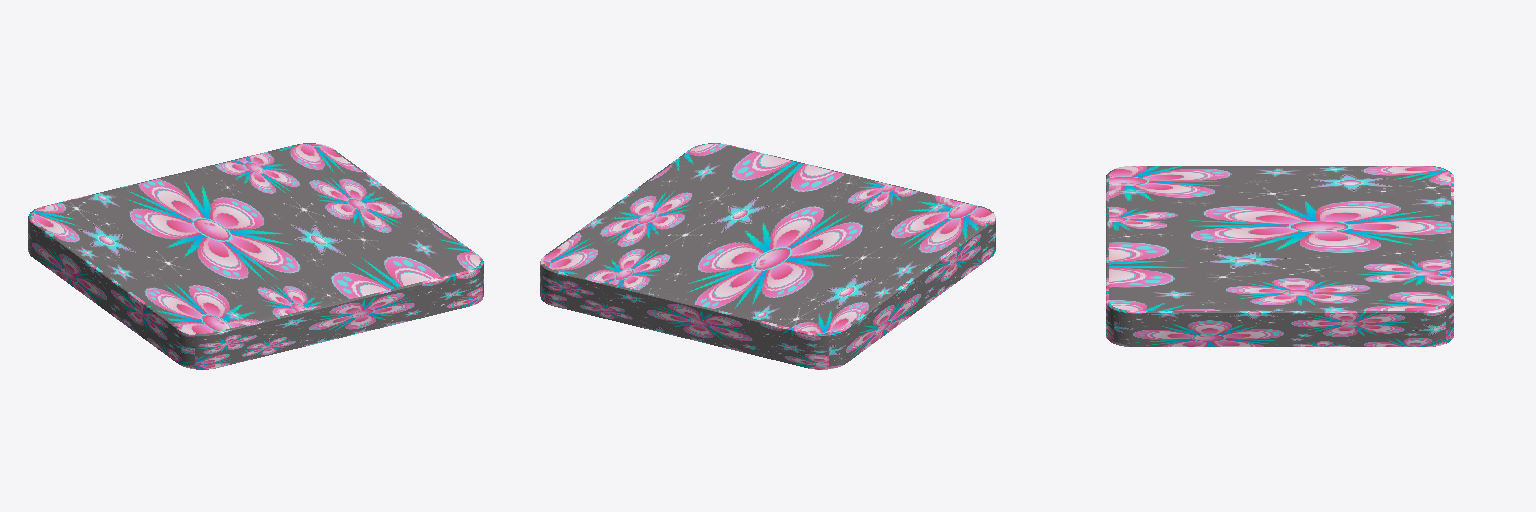
The picture shows the model from 3 angles: view 1: azimuth 30°, elevation 25°; view 2: azimuth 150°, elevation 25°; view 3: azimuth 270°, elevation 25°; orthographic projection.
Parts seen in each view (by area): view 1: Cube; view 2: Cube; view 3: Cube.
Part boxes in pixels (x1,y1,x2,y2): Cube: (28,143,483,369); Cube: (540,143,995,369); Cube: (1106,166,1453,346).
Size of the model in its own units: 2 by 0.2229 by 2.
Materials: 1 (1 with a texture image).